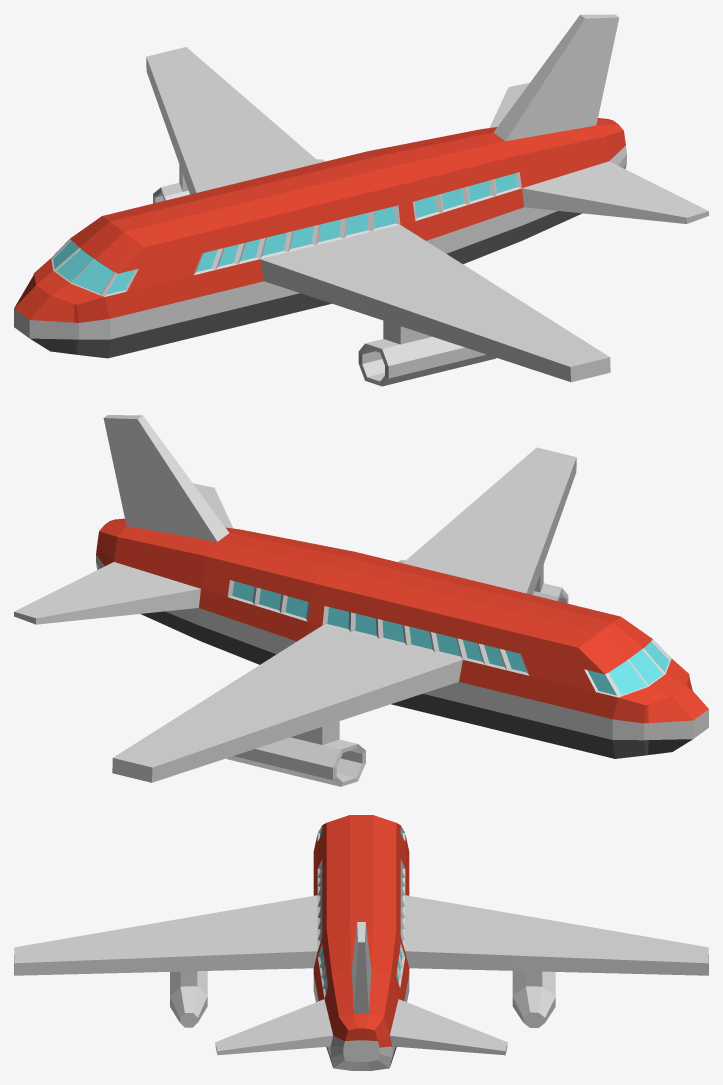
File: plane_red.fbx
3 renders of one model, top to bottom at view 1: azimuth 30°, elevation 25°; view 2: azimuth 150°, elevation 25°; view 3: azimuth 270°, elevation 25°, orthographic. The views are drawn at different scales.
Visible parts, largest first — view 1: Cube; view 2: Cube; view 3: Cube.
Boxes of the visible parts, x1=… form: Cube: x1=14, y1=14, x2=708, y2=386; Cube: x1=14, y1=415, x2=708, y2=786; Cube: x1=14, y1=815, x2=708, y2=1070.
Bounding box in the file's own units: 551 × 187 × 676.
